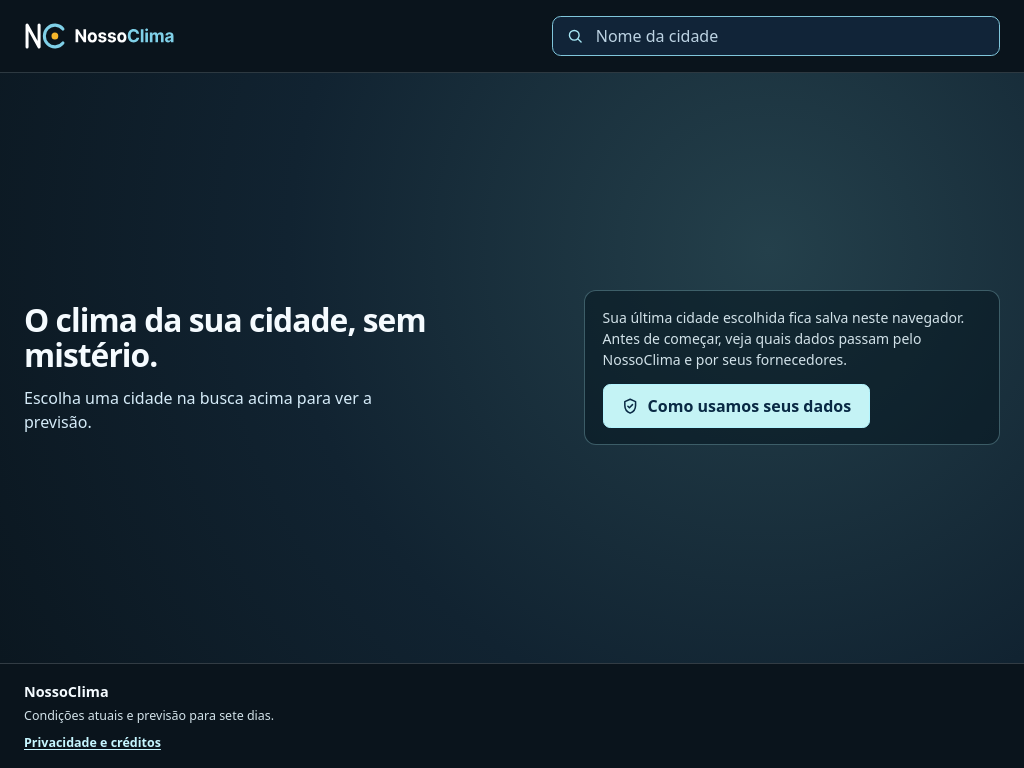
Test: city-to-forecast flow › shows a distinct generic forecast failure for unrelated HTTP errors
Type "São" into the dropdown named "Buscar cidade" at (790, 36), box [594,24,986,48]
Wait 300 ms
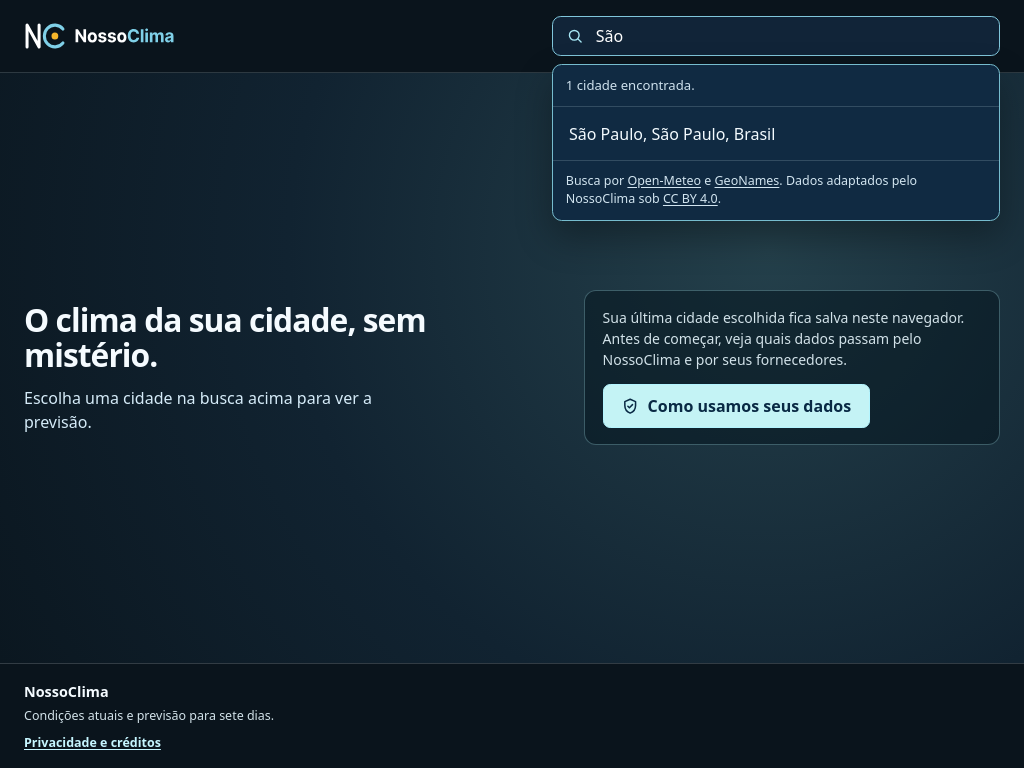
Click the option "São Paulo, São Paulo, Brasil" at (776, 134), box [558,112,994,156]
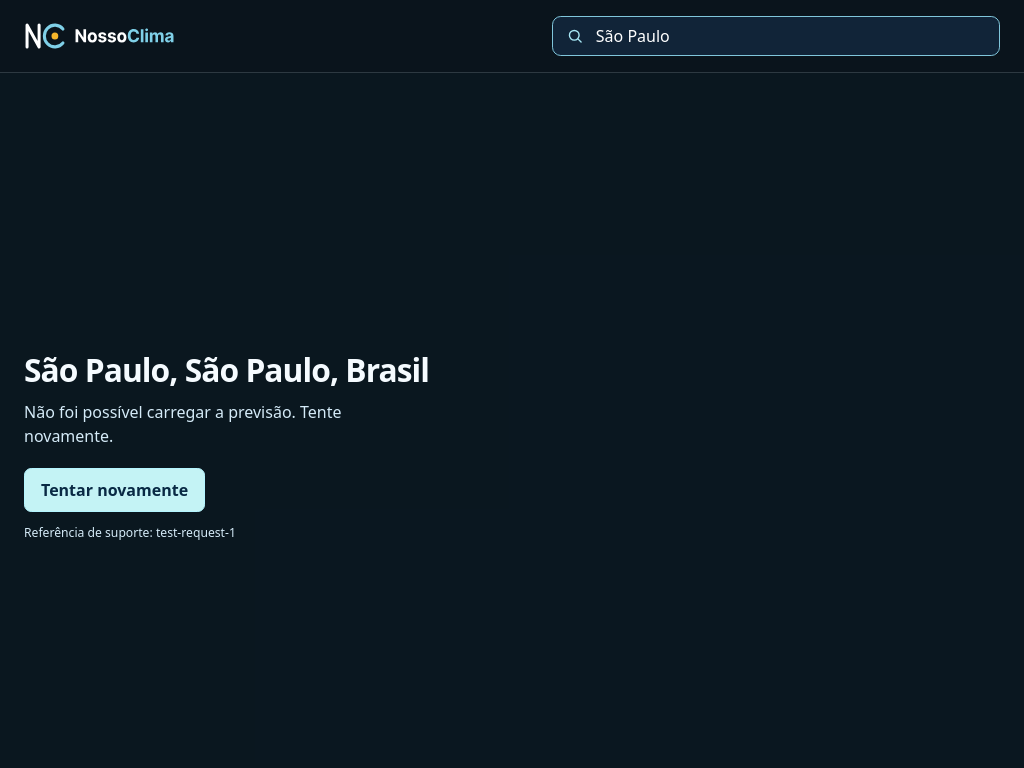
Check: the text "Não foi possível carregar a previsão. Tente novamente." is shown, box [24,402,342,448]
